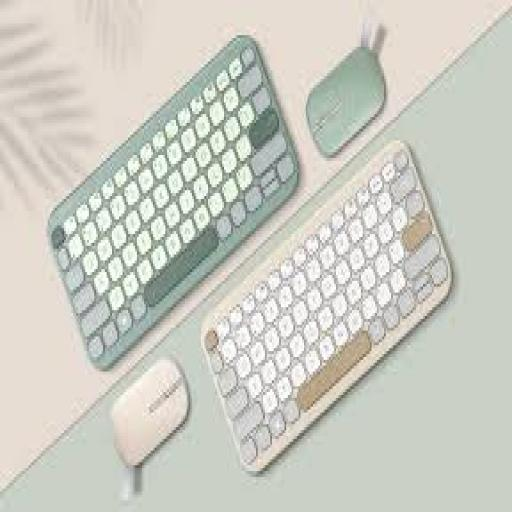keyboard: (48, 35, 297, 369), (201, 140, 450, 471)
